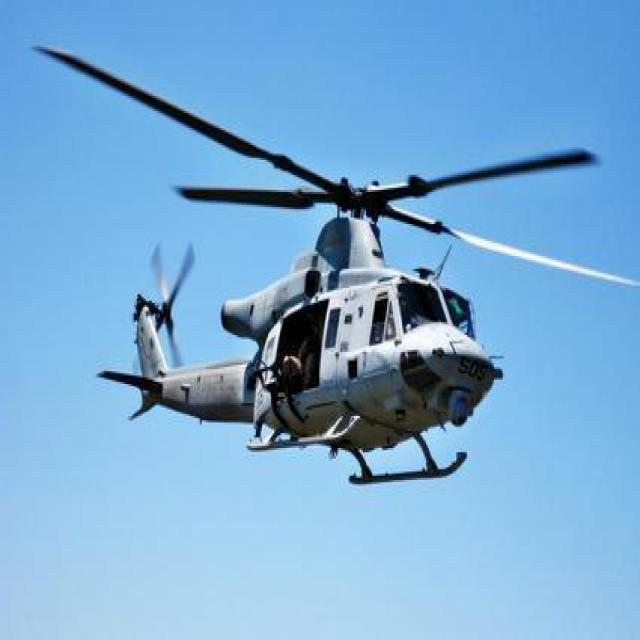MIL_HELO: (31, 35, 640, 489)
